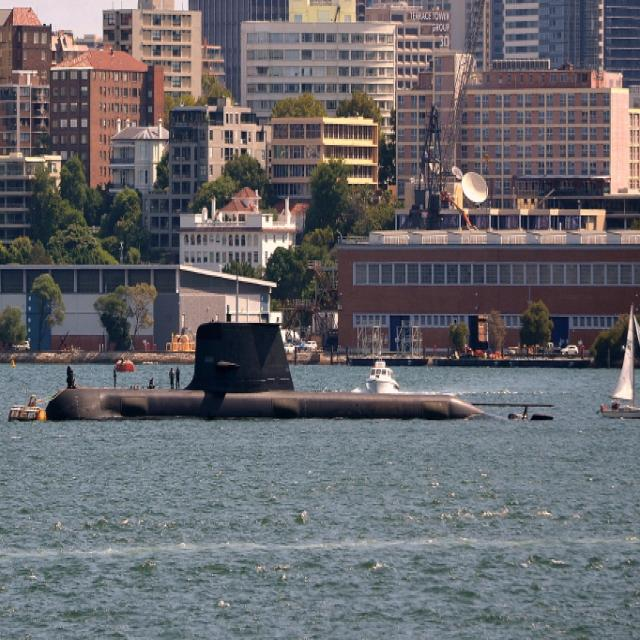submarine: (52, 326, 493, 420)
